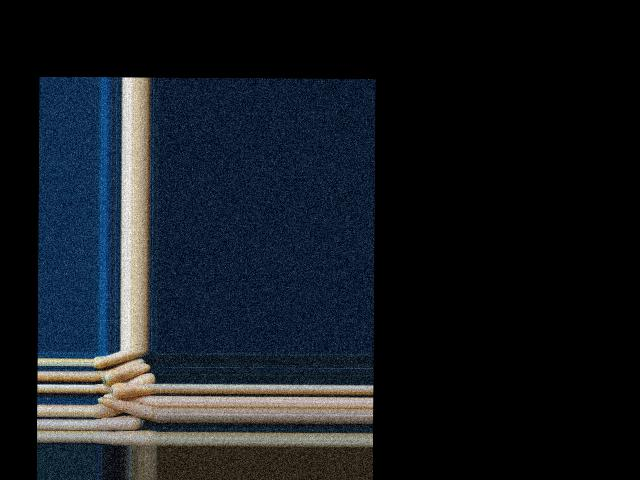carrot: (92, 430, 154, 444)
